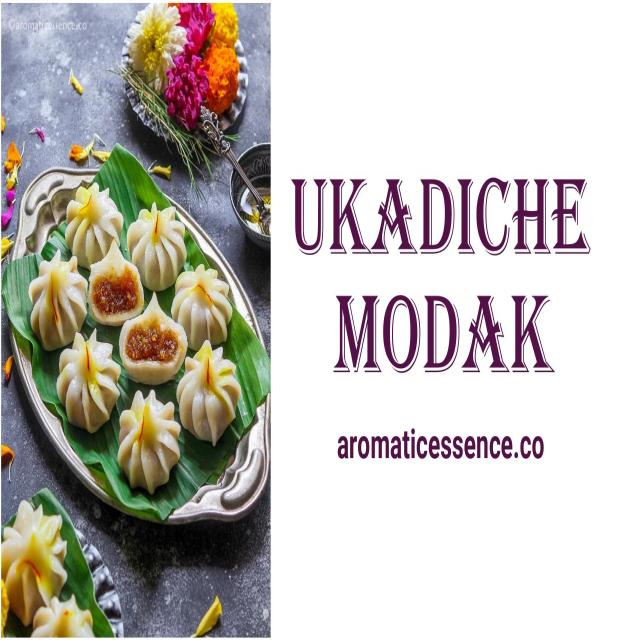modak: (56, 216, 203, 435)
